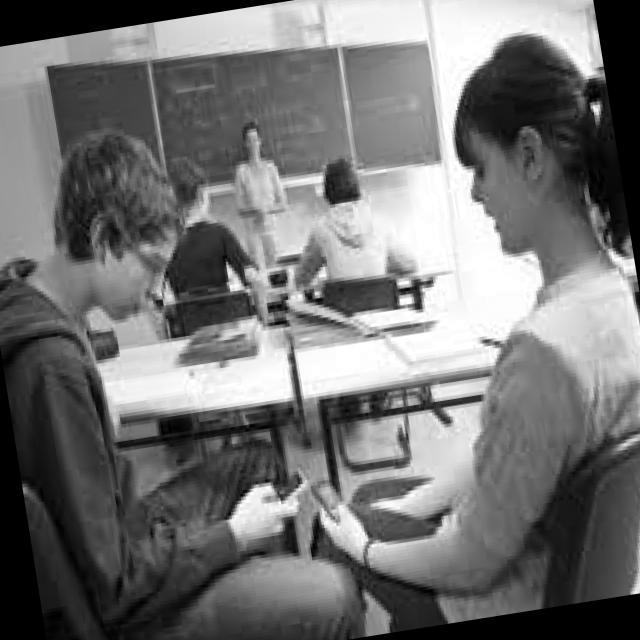phone: (307, 476, 343, 526), (274, 467, 311, 508)
